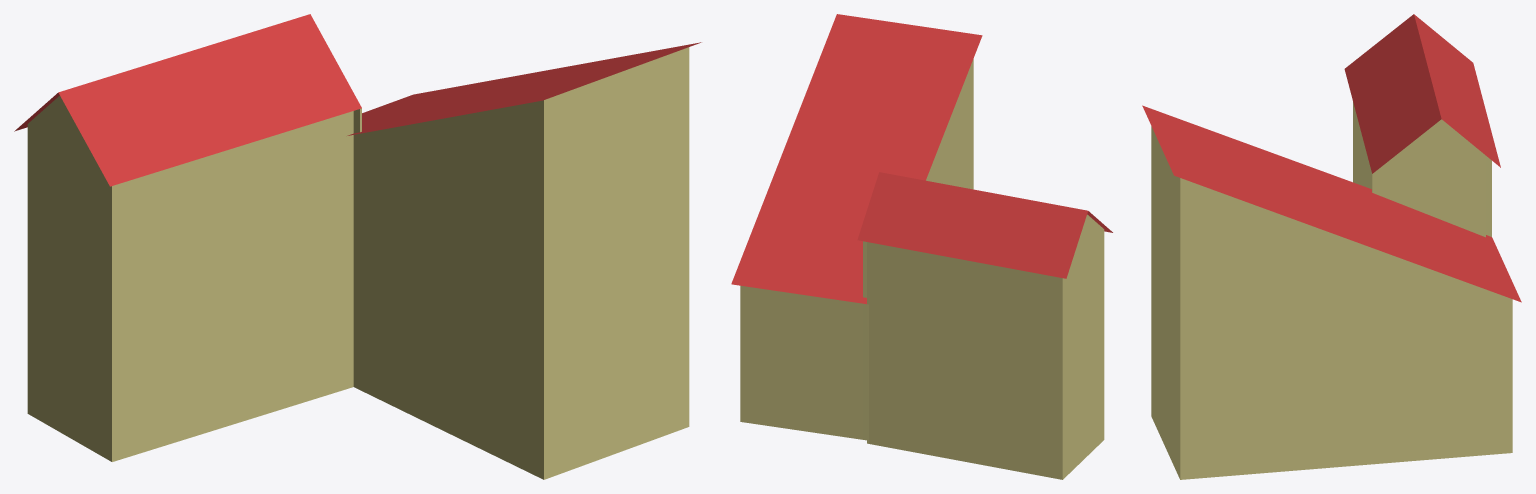
The picture shows the model from 3 angles, left to right: view 1: azimuth 30°, elevation 25°; view 2: azimuth 150°, elevation 25°; view 3: azimuth 270°, elevation 25°; orthographic projection. The views are drawn at different scales.
Bounding box in the file's own units: 14.85 × 12.16 × 10.89.
